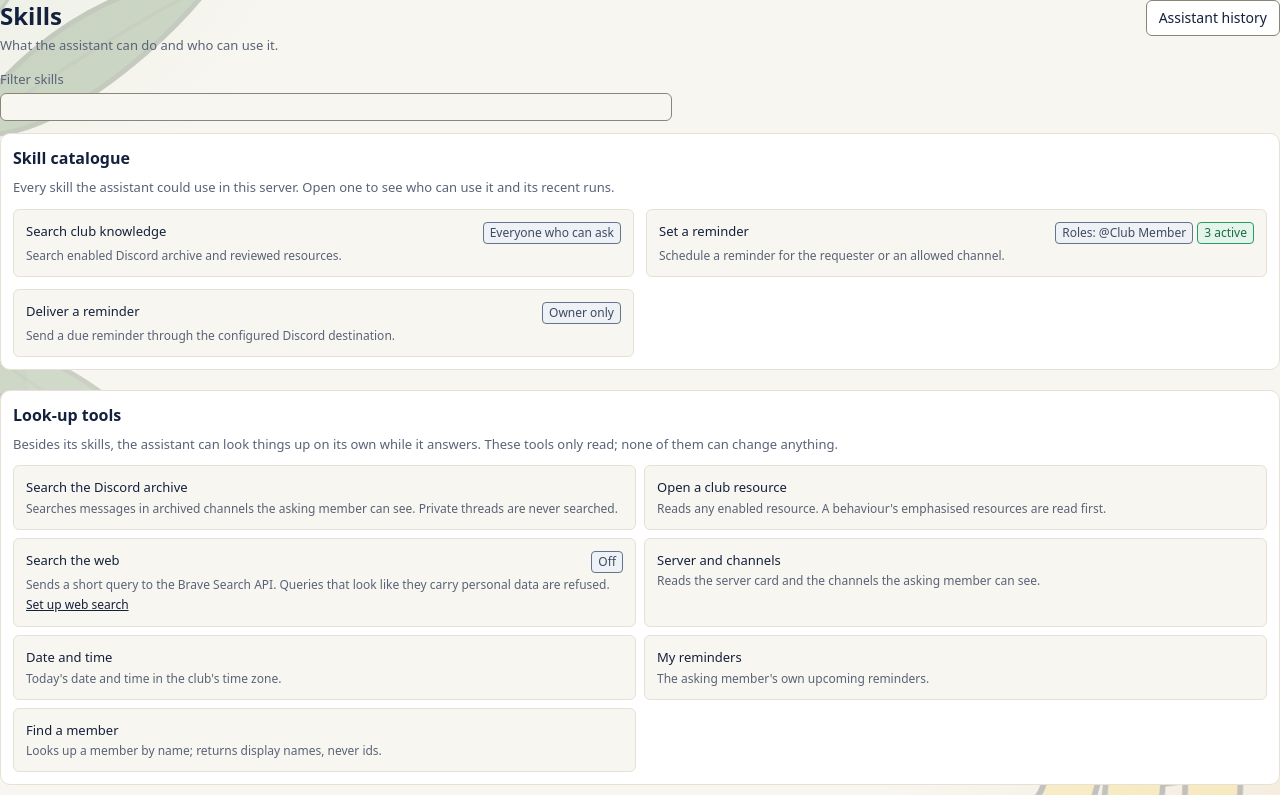
filters the catalogue without changing skill scope or starting a run
The image size is (1280, 795).
Expected: the link "Search club knowledge" is shown, [13,209,634,277]
Type "no matching skill" into the field labelled "Filter skills" at (336, 107), box [0,93,672,121]
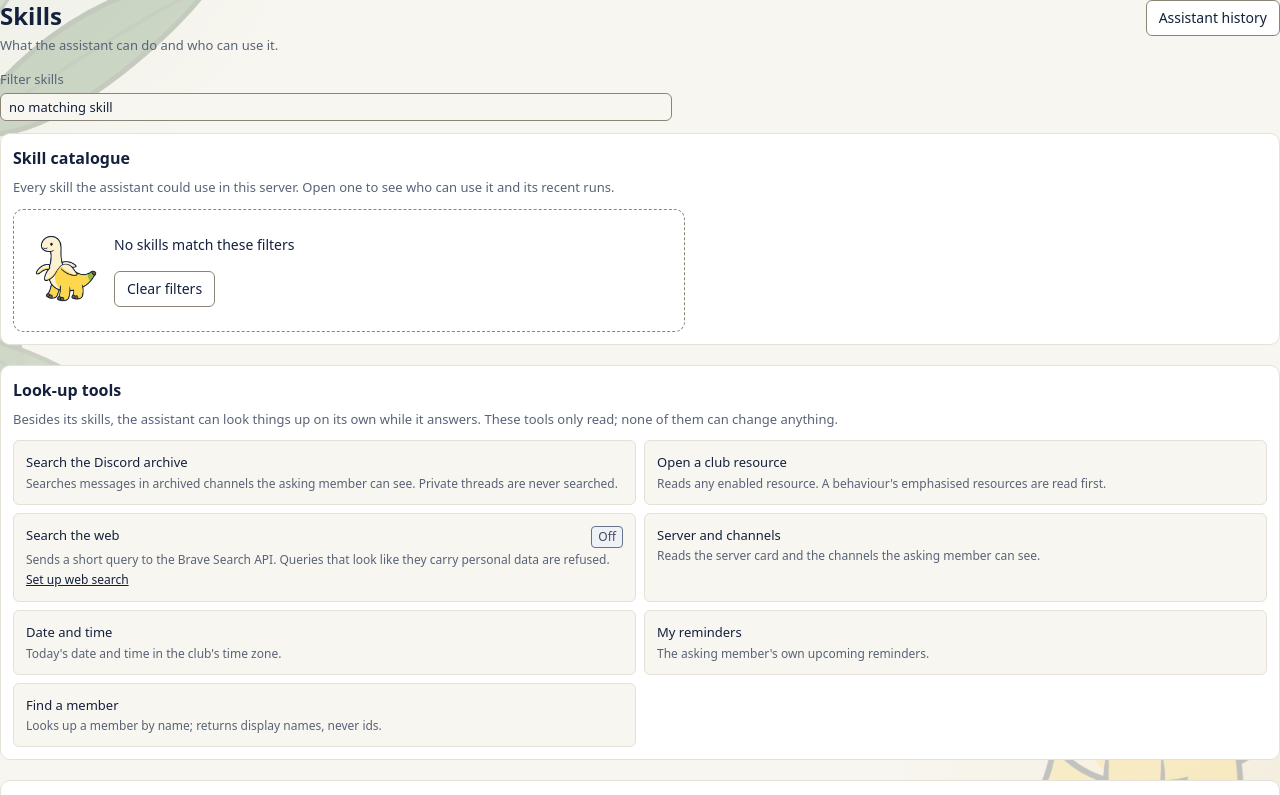
Result: the heading "No skills match these filters" is shown at [114,235,294,254]
Click the button "Clear filters" at (165, 289), box [114,271,215,307]
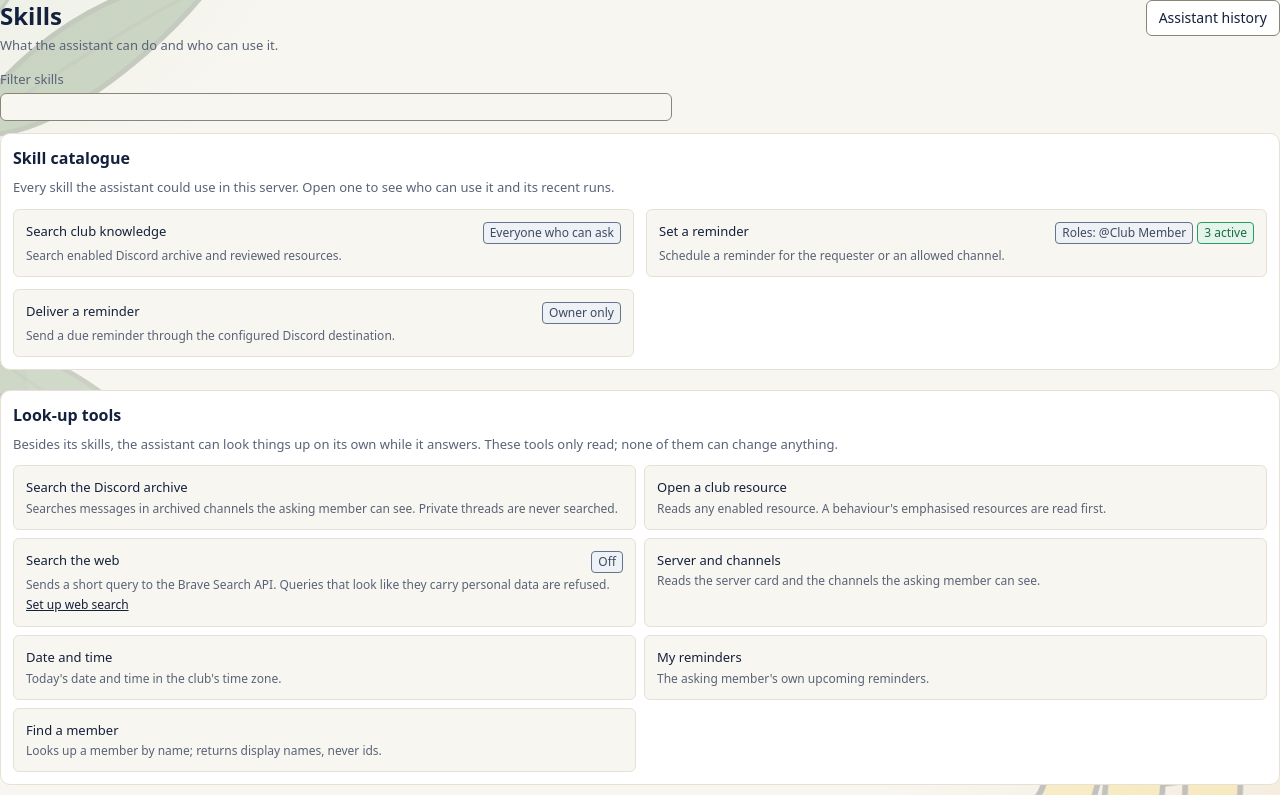
Result: the link "Search club knowledge" is shown at [13,209,634,277]
